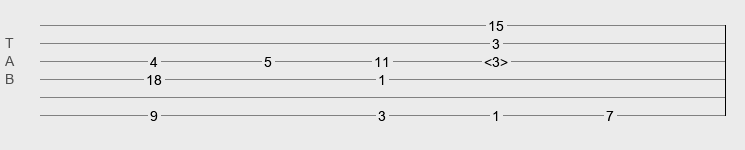1: (378, 72, 386, 82), (492, 108, 500, 118)
11: (374, 54, 390, 64)
15: (488, 18, 504, 28)
18: (146, 72, 162, 82)
3: (378, 108, 386, 118), (492, 36, 500, 46)
4: (150, 54, 158, 64)
5: (264, 54, 272, 64)
7: (606, 108, 614, 118)
9: (150, 108, 158, 118)
harmonic: (484, 54, 508, 64)
